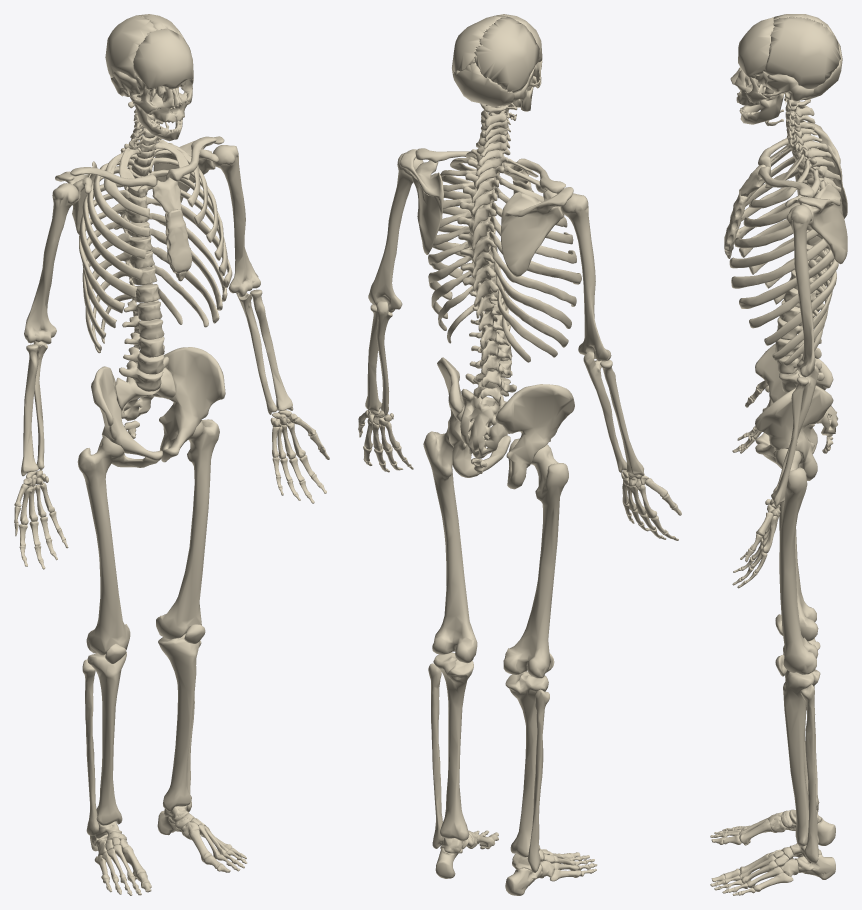
The model's file is body-balanced.glb.
3 views of the same model, side by side, from view 1: azimuth 30°, elevation 25°; view 2: azimuth 150°, elevation 25°; view 3: azimuth 270°, elevation 25° (orthographic). The views are drawn at different scales.
Visible parts, largest first — view 1: za.femur-r, za.femur-l, za.hip-bone-l, za.tibia-l, za.frontal-bone, za.tibia-r, za.humerus-r, za.humerus-l, za.hip-bone-r, za.parietal-bone-r, za.sacrum, za.fibula-r (+20 smaller); view 2: za.femur-r, za.femur-l, za.hip-bone-r, za.scapula-r, za.parietal-bone-r, za.tibia-l, za.tibia-r, za.humerus-r, za.humerus-l, za.hip-bone-l, za.scapula-l, za.sacrum (+15 smaller); view 3: za.femur-l, za.parietal-bone-l, za.tibia-l, za.hip-bone-l, za.humerus-l, za.scapula-l, za.fibula-l, za.hip-bone-r, za.frontal-bone, za.radius-l, za.femur-r, za.seventh-rib-l (+27 smaller).
Boxes of the visible parts, x1=… form: za.femur-r: x1=77, y1=436, x2=130, y2=655; za.femur-l: x1=156, y1=419, x2=219, y2=639; za.hip-bone-l: x1=159, y1=347, x2=225, y2=462; za.tibia-l: x1=158, y1=633, x2=199, y2=811; za.frontal-bone: x1=133, y1=28, x2=193, y2=91; za.tibia-r: x1=87, y1=652, x2=126, y2=825; za.humerus-r: x1=24, y1=183, x2=78, y2=344; za.humerus-l: x1=213, y1=145, x2=260, y2=296; za.hip-bone-r: x1=91, y1=366, x2=162, y2=467; za.parietal-bone-r: x1=105, y1=15, x2=157, y2=79; za.sacrum: x1=115, y1=367, x2=175, y2=420; za.fibula-r: x1=82, y1=659, x2=99, y2=835; za.femur-r: x1=503, y1=444, x2=568, y2=678; za.femur-l: x1=423, y1=427, x2=477, y2=663; za.hip-bone-r: x1=495, y1=384, x2=574, y2=489; za.scapula-r: x1=501, y1=187, x2=573, y2=276; za.parietal-bone-r: x1=474, y1=16, x2=539, y2=93; za.tibia-l: x1=433, y1=652, x2=473, y2=840; za.tibia-r: x1=505, y1=671, x2=548, y2=857; za.humerus-r: x1=561, y1=193, x2=611, y2=361; za.humerus-l: x1=368, y1=153, x2=423, y2=312; za.hip-bone-l: x1=437, y1=357, x2=510, y2=477; za.scapula-l: x1=400, y1=149, x2=443, y2=254; za.sacrum: x1=459, y1=389, x2=507, y2=458; za.femur-l: x1=775, y1=448, x2=818, y2=674; za.parietal-bone-l: x1=763, y1=17, x2=840, y2=88; za.tibia-l: x1=783, y1=669, x2=820, y2=846; za.hip-bone-l: x1=755, y1=385, x2=833, y2=480; za.humerus-l: x1=786, y1=205, x2=815, y2=377; za.scapula-l: x1=785, y1=183, x2=847, y2=264; za.fibula-l: x1=800, y1=684, x2=818, y2=863; za.hip-bone-r: x1=755, y1=343, x2=833, y2=454; za.frontal-bone: x1=738, y1=17, x2=774, y2=78; za.radius-l: x1=771, y1=376, x2=808, y2=506; za.femur-r: x1=779, y1=470, x2=818, y2=641; za.seventh-rib-l: x1=739, y1=249, x2=834, y2=308.
Bounding box in the file's own units: 0.6692 × 1.7 × 0.2501.
